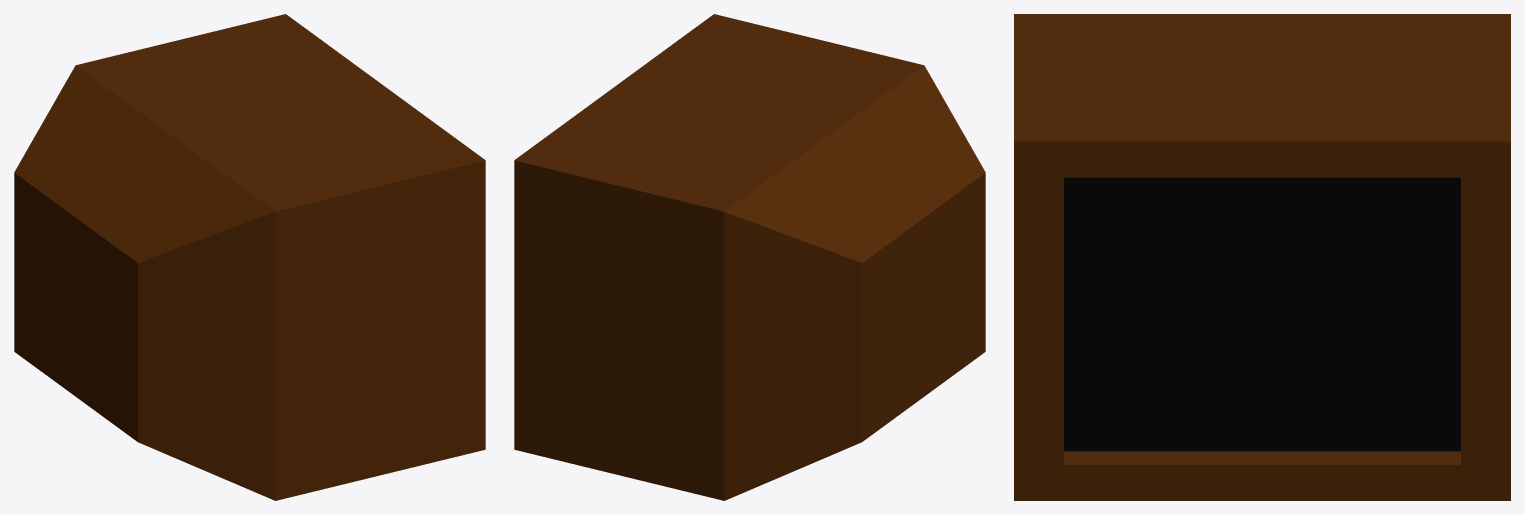
The model's file is Ana TV ONly.fbx.
3 renders of one model, left to right at view 1: azimuth 30°, elevation 25°; view 2: azimuth 150°, elevation 25°; view 3: azimuth 270°, elevation 25°, orthographic. The views are drawn at different scales.
Visible parts, largest first — view 1: Cube; view 2: Cube; view 3: Cube.
Part boxes in pixels (x1=…): Cube: x1=14, y1=14, x2=485, y2=500; Cube: x1=514, y1=14, x2=985, y2=500; Cube: x1=1014, y1=14, x2=1510, y2=500.
Size of the model in its own units: 380 by 339 by 425.
